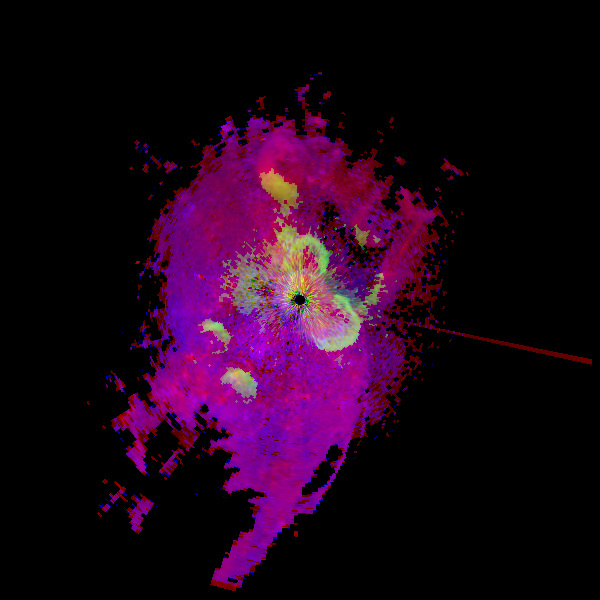roost: (396, 167, 456, 227), (306, 296, 366, 356), (256, 138, 316, 198), (350, 195, 407, 252), (211, 367, 262, 418), (180, 317, 228, 365), (288, 236, 330, 278)
